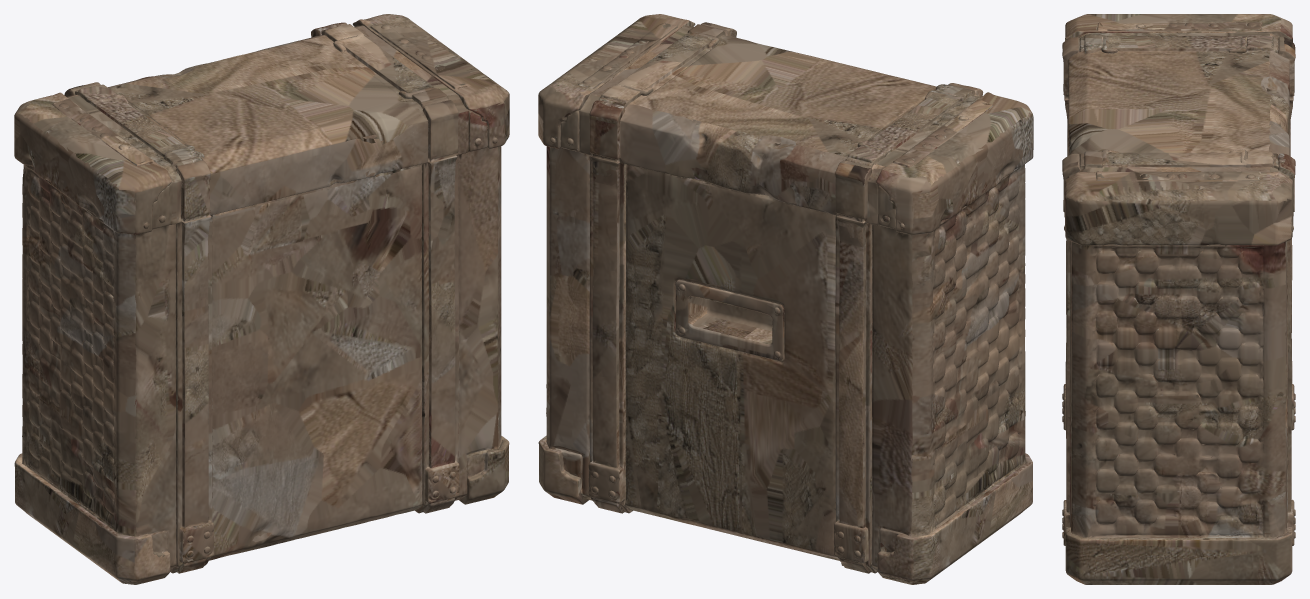
3 renders of one model, left to right at view 1: azimuth 30°, elevation 25°; view 2: azimuth 150°, elevation 25°; view 3: azimuth 270°, elevation 25°, orthographic. The views are drawn at different scales.
Visible parts, largest first — view 1: CRATE_V4_LOW; view 2: CRATE_V4_LOW; view 3: CRATE_V4_LOW.
Boxes of the visible parts, <box> form: CRATE_V4_LOW: <box>14,14,509,584</box>; CRATE_V4_LOW: <box>538,14,1033,584</box>; CRATE_V4_LOW: <box>1062,14,1295,584</box>.
Size of the model in its own units: 190 by 189 by 101.
